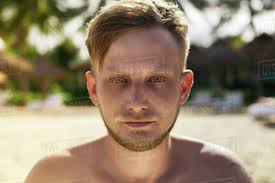white_male: (93, 49, 186, 147)
